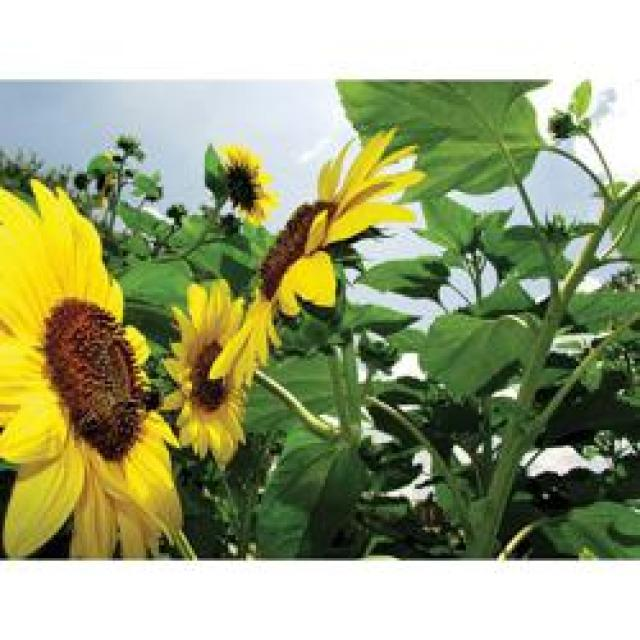sunflower: (0, 164, 182, 563), (195, 115, 428, 387), (156, 268, 266, 472), (212, 136, 280, 228)
